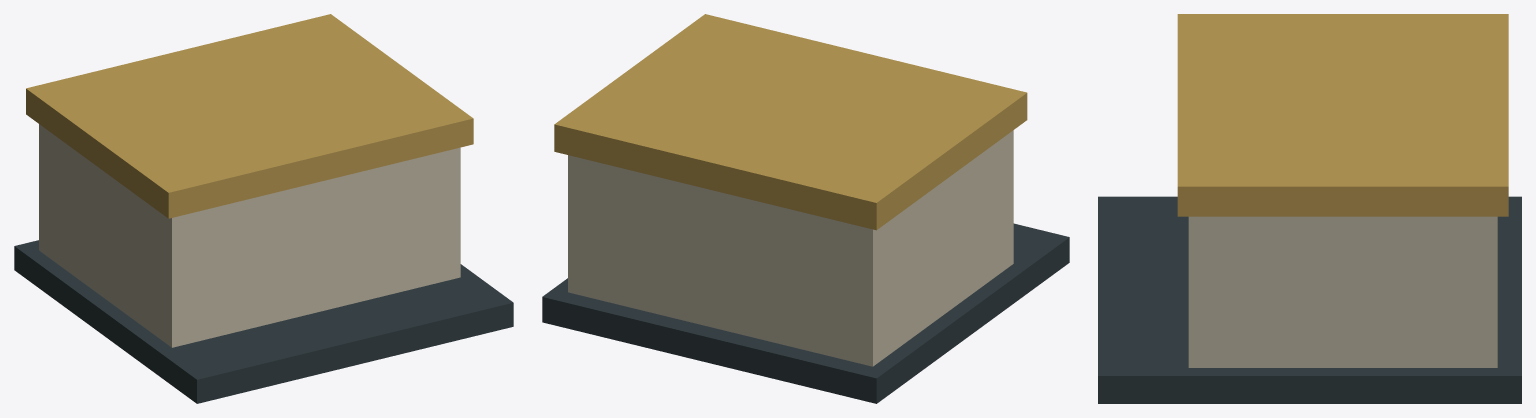
Rendered from depot-lod2.02a3539140b2.glb.
3 renders of one model, left to right at view 1: azimuth 30°, elevation 25°; view 2: azimuth 150°, elevation 25°; view 3: azimuth 270°, elevation 25°, orthographic. The views are drawn at different scales.
Visible parts, largest first — view 1: body; view 2: body; view 3: body.
Part boxes in pixels (box(x1,y1,x2,y2)): body: box(14, 14, 513, 403); body: box(542, 14, 1069, 403); body: box(1098, 14, 1521, 403).
Size of the model in its own units: 3.84 by 2.14 by 3.84.
